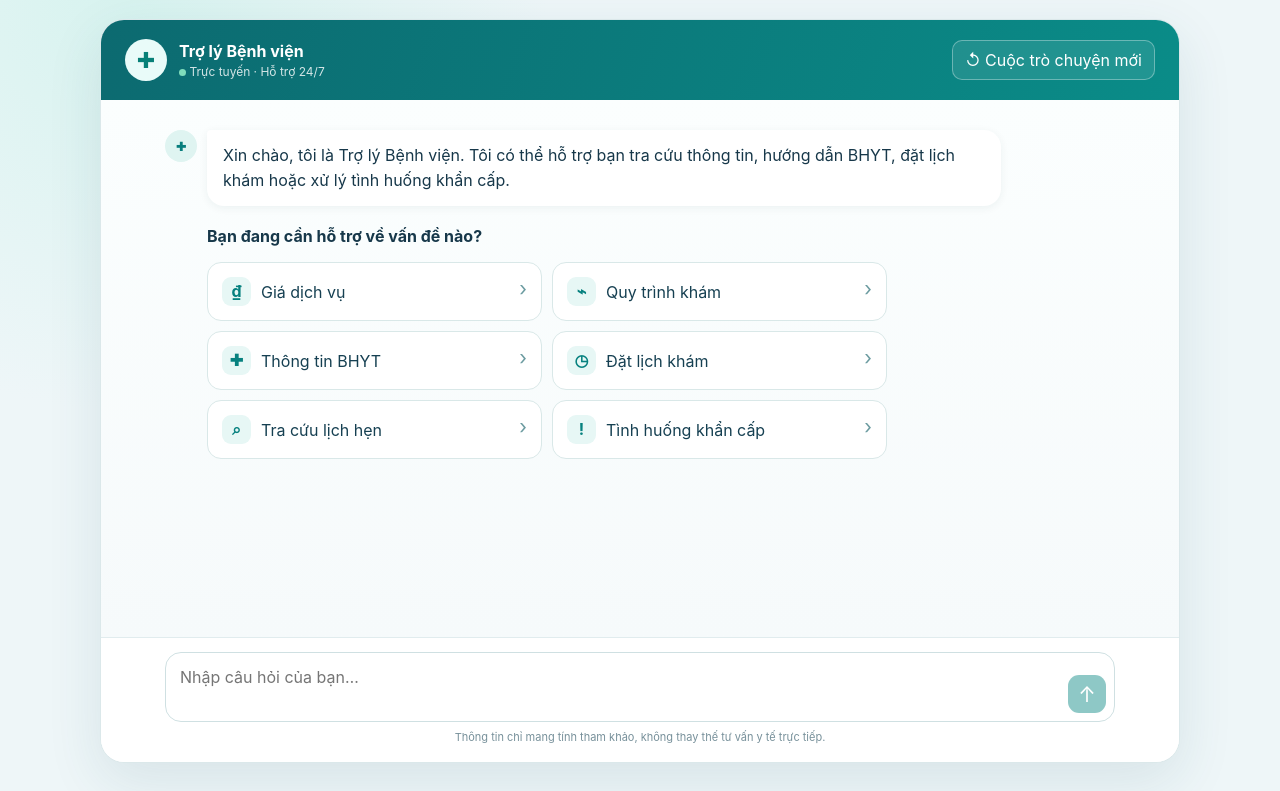
it: App conversational experience › guides appointment selection through specialty, doctor and slot buttons
This screenshot has width=1280, height=791.
Click the button "◷ Đặt lịch khám ›" at (657, 360), box [552, 331, 887, 390]
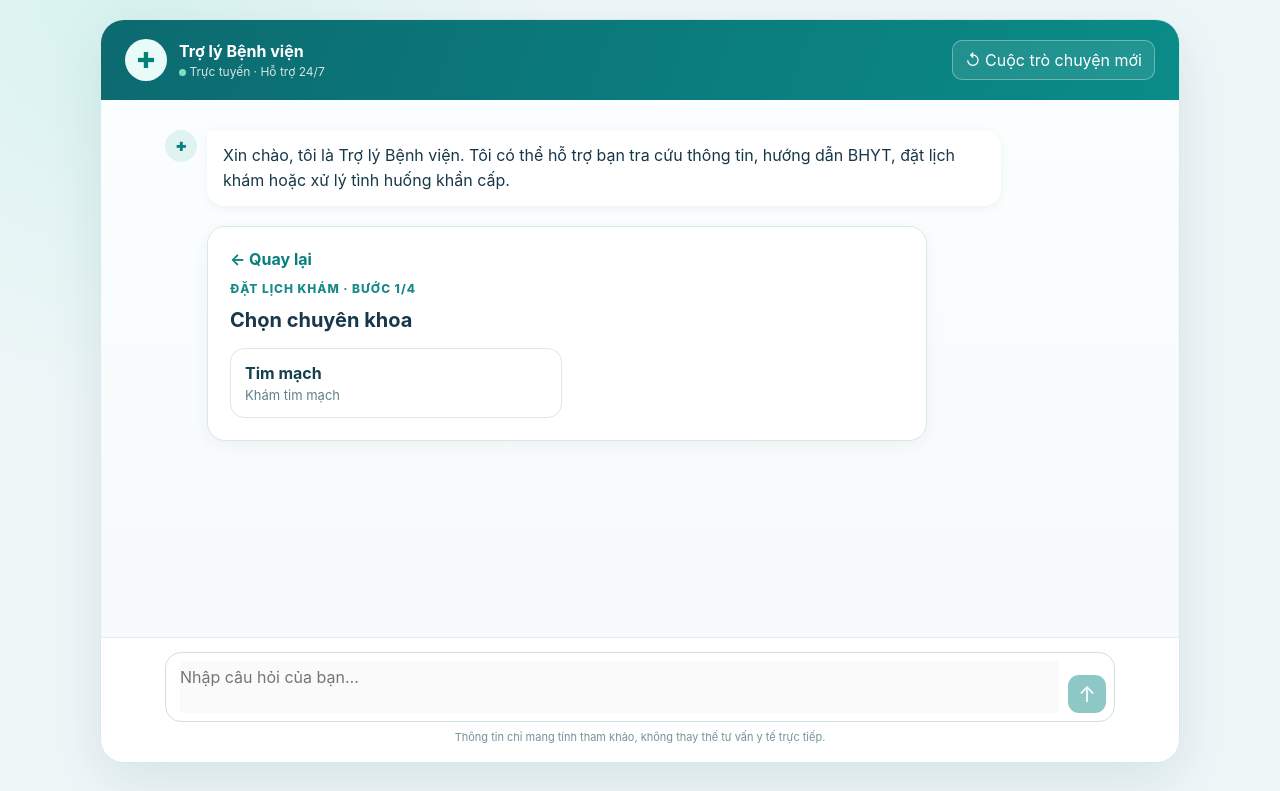
Check: the button "Tim mạch Khám tim mạch" is shown
Click the button "Tim mạch Khám tim mạch" at (283, 373), box [230, 348, 562, 418]
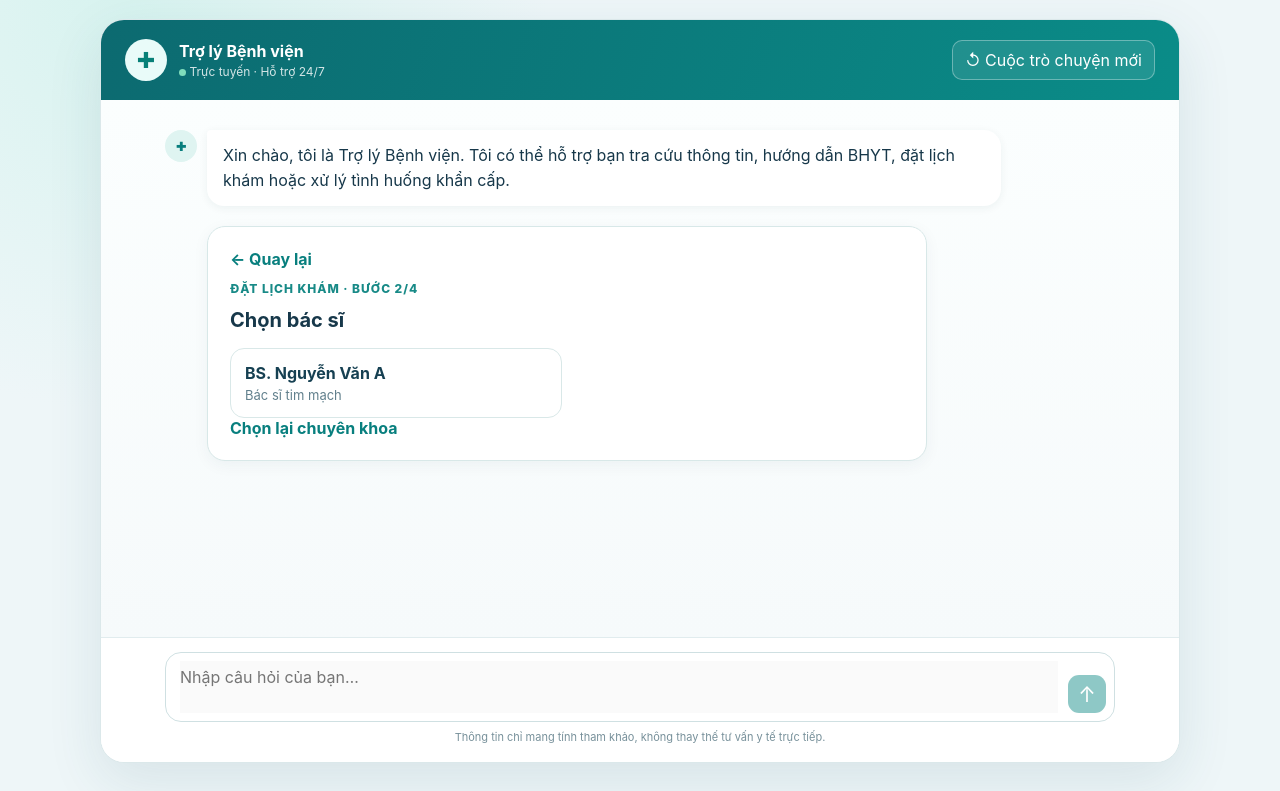
Check: the button "BS. Nguyễn Văn A Bác sĩ tim mạch" is shown
Click the button "BS. Nguyễn Văn A Bác sĩ tim mạch" at (330, 373), box [230, 348, 562, 418]
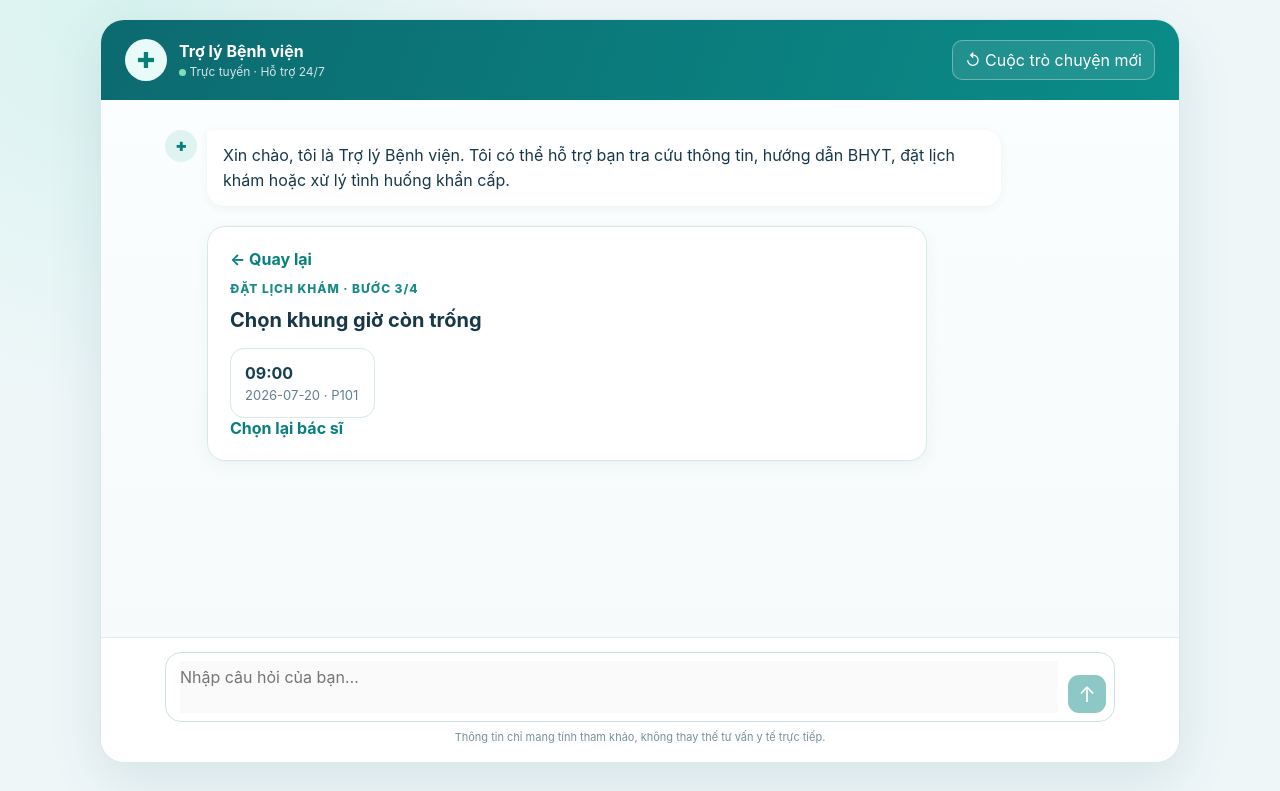
Check: the button "09:00 2026-07-20 · P101" is shown
Click the button "09:00 2026-07-20 · P101" at (302, 383), box [230, 348, 375, 418]
(page scrolled)
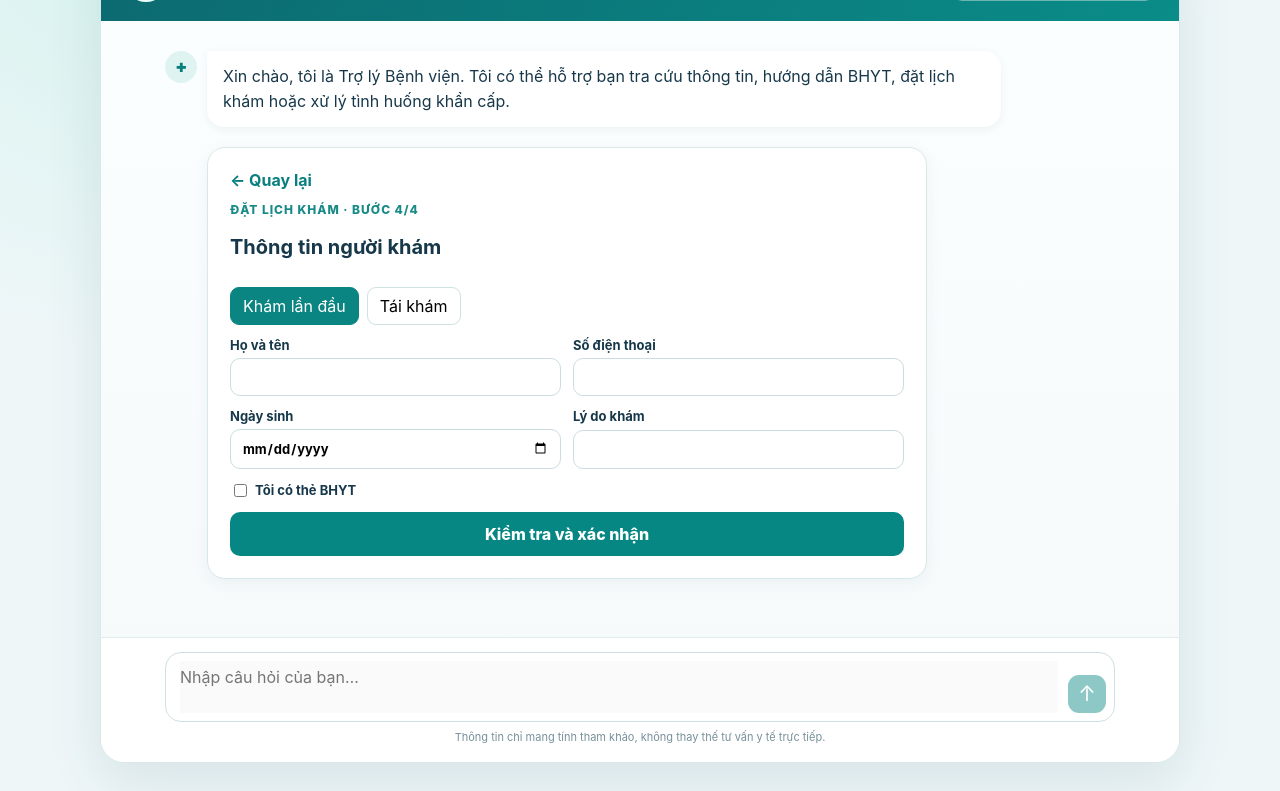
Check: the heading "Thông tin người khám" is shown, box [230, 235, 441, 259]
